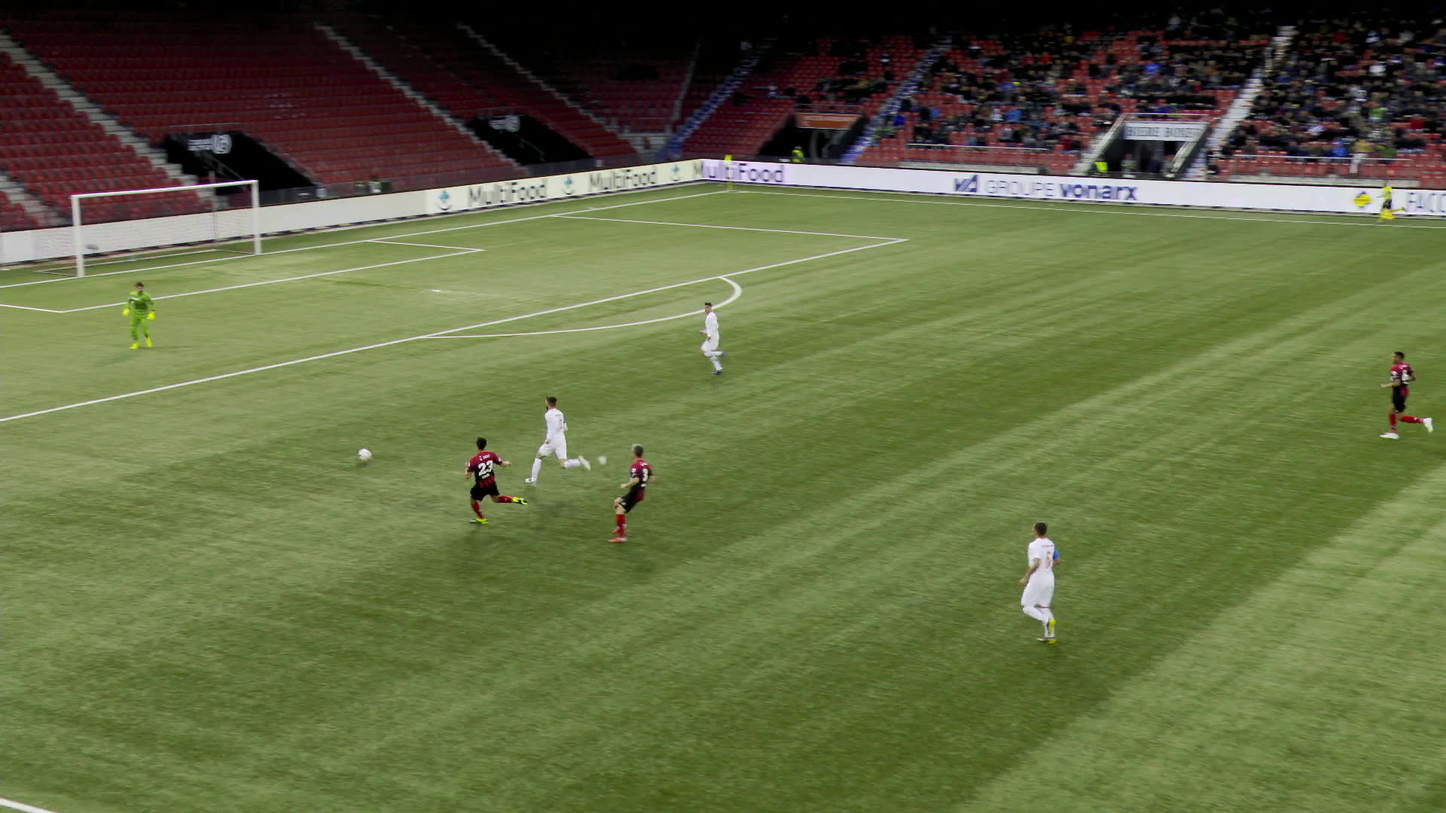ball: (362, 450, 379, 467)
player: (525, 394, 591, 491), (462, 434, 526, 528), (1017, 518, 1062, 644), (1377, 348, 1434, 443), (606, 443, 654, 547), (121, 281, 158, 350), (694, 300, 727, 374)
referee: (1365, 179, 1393, 220)
